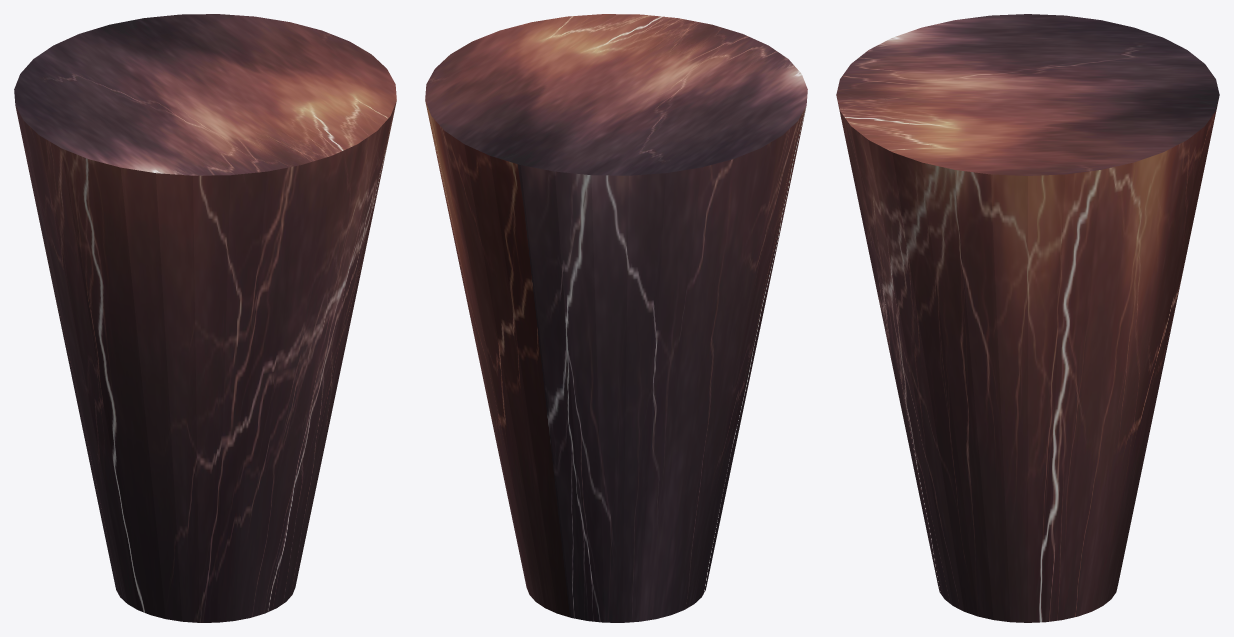
The model's file is vortex1_obj.obj.
The picture shows the model from 3 angles, left to right: view 1: azimuth 30°, elevation 25°; view 2: azimuth 150°, elevation 25°; view 3: azimuth 270°, elevation 25°; orthographic projection.
Parts seen in each view (by area): view 1: Cylinder; view 2: Cylinder; view 3: Cylinder.
Boxes of the visible parts, x1,y1,x2,y2 form: Cylinder: (14,14,396,622); Cylinder: (425,14,807,622); Cylinder: (836,14,1219,622).
Size of the model in its own units: 4.26 by 6 by 4.26.
